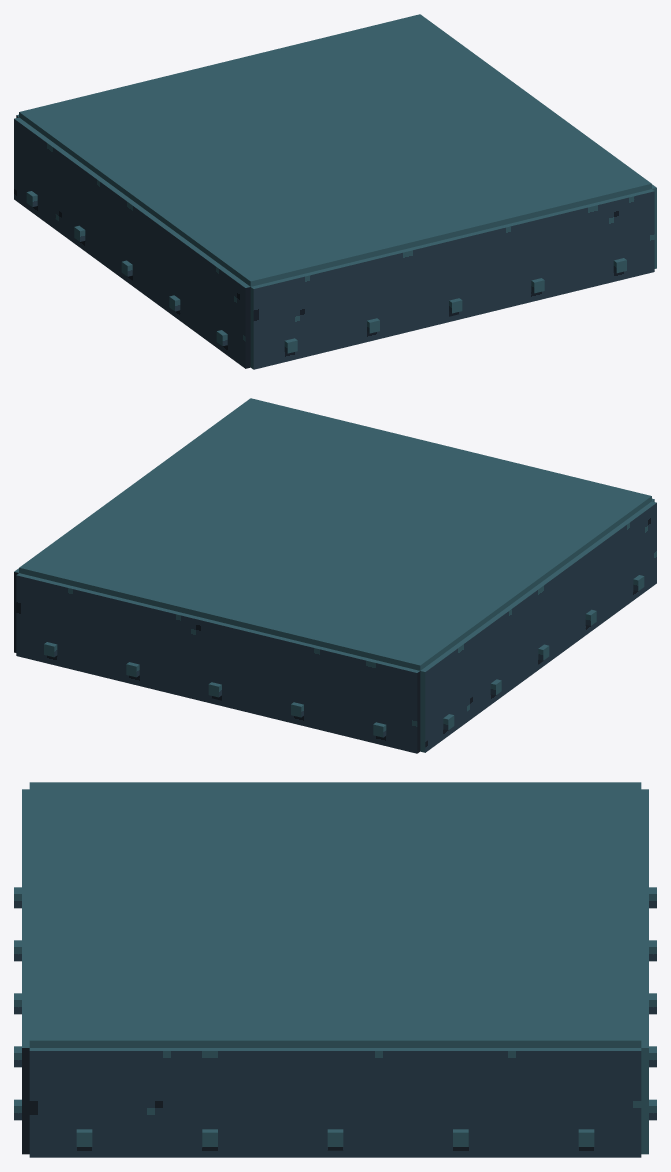
Rendered from mine_city_door_baseao.fezao.glb.
3 views of the same model, one above another, from view 1: azimuth 30°, elevation 25°; view 2: azimuth 150°, elevation 25°; view 3: azimuth 270°, elevation 25° (orthographic). The views are drawn at different scales.
Parts seen in each view (by area): view 1: MINE_CITY_DOOR_BASEAO; view 2: MINE_CITY_DOOR_BASEAO; view 3: MINE_CITY_DOOR_BASEAO.
Boxes of the visible parts, box(x1,y1,x2,y2) form: MINE_CITY_DOOR_BASEAO: box(14, 14, 656, 369); MINE_CITY_DOOR_BASEAO: box(14, 398, 656, 753); MINE_CITY_DOOR_BASEAO: box(14, 782, 656, 1157).
Size of the model in its own units: 5.12 by 1 by 5.12.
Materials: 1 (1 with a texture image).
